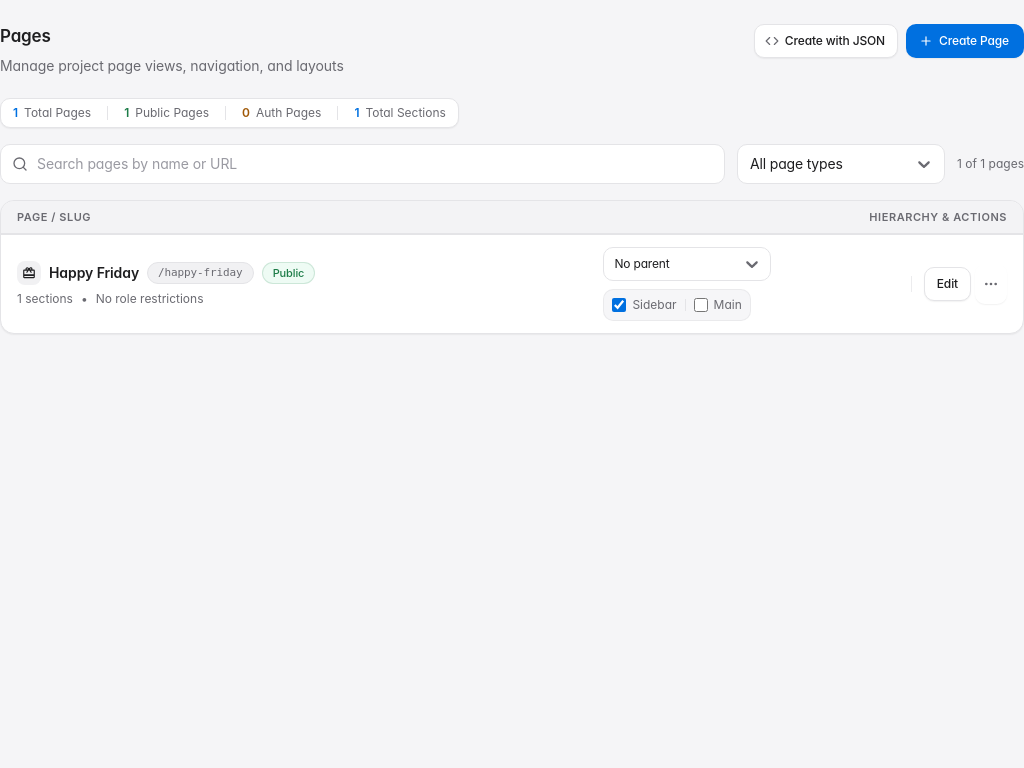
it: PagesSection designer workspace › retains changes after a save failure and supports keyboard tab navigation
Click the button "Edit" at coordinates (947, 284), box x1=924 y1=267 x2=971 y2=301
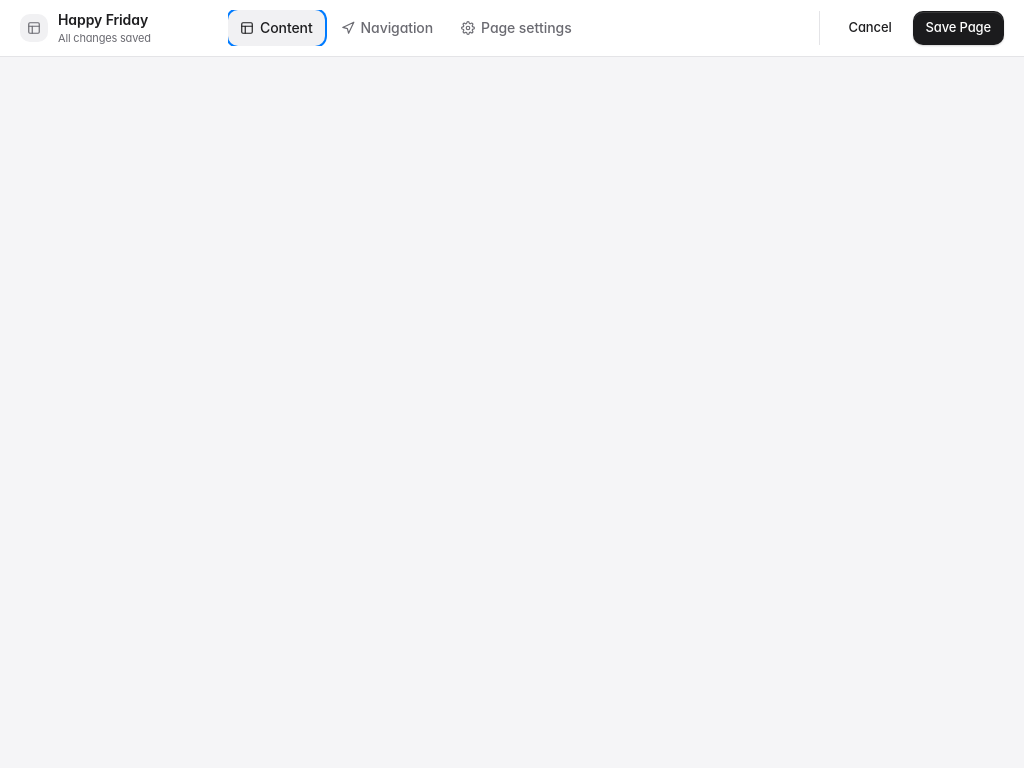
Press End
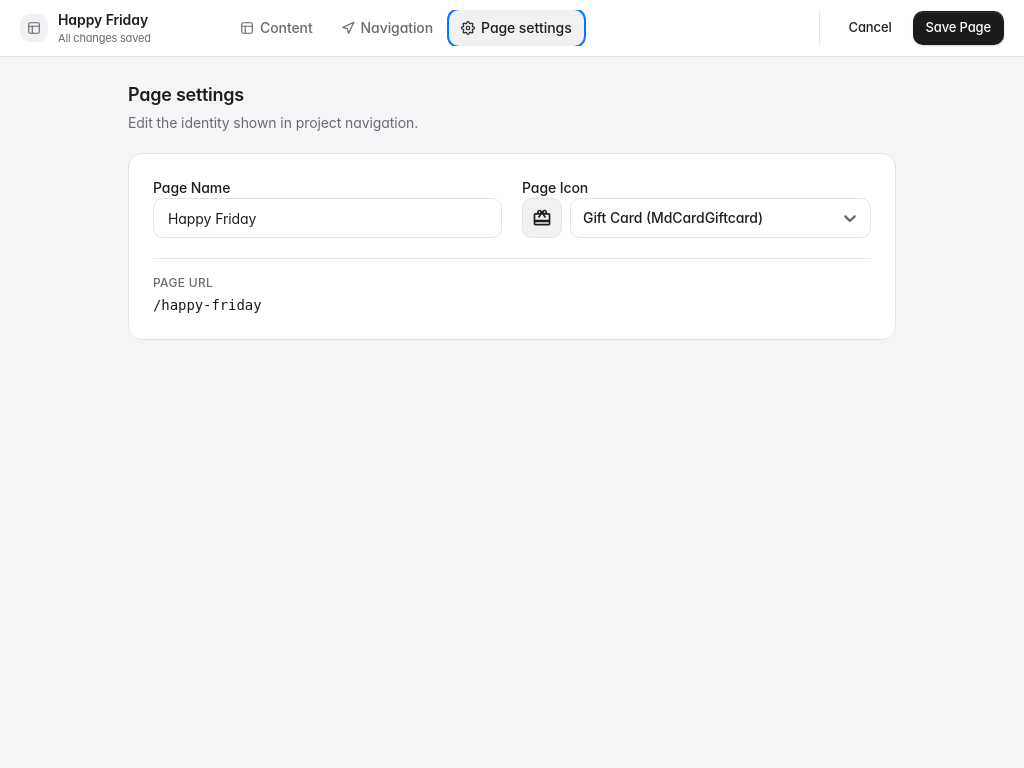
Expected: the tab "Page settings" is selected, x1=449 y1=10 x2=584 y2=46
Type " updated" into the field labelled "Page Name" at coordinates (328, 218), box x1=153 y1=198 x2=502 y2=238
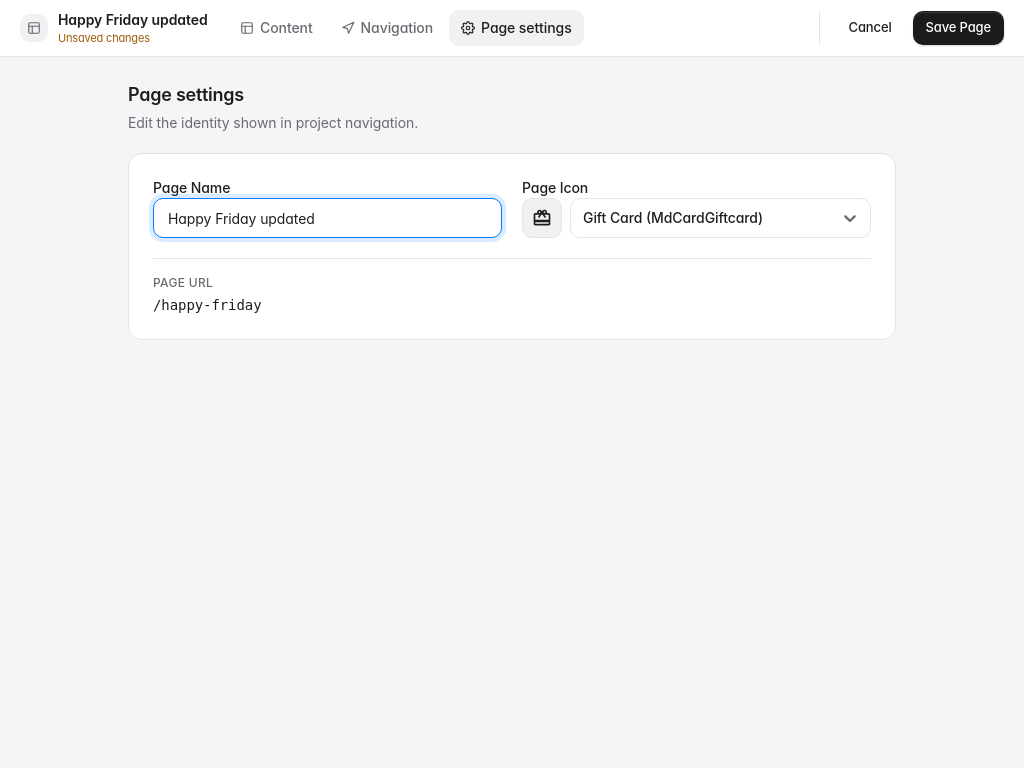
Click the button "Save Page" at coordinates (958, 28), box x1=912 y1=11 x2=1004 y2=45
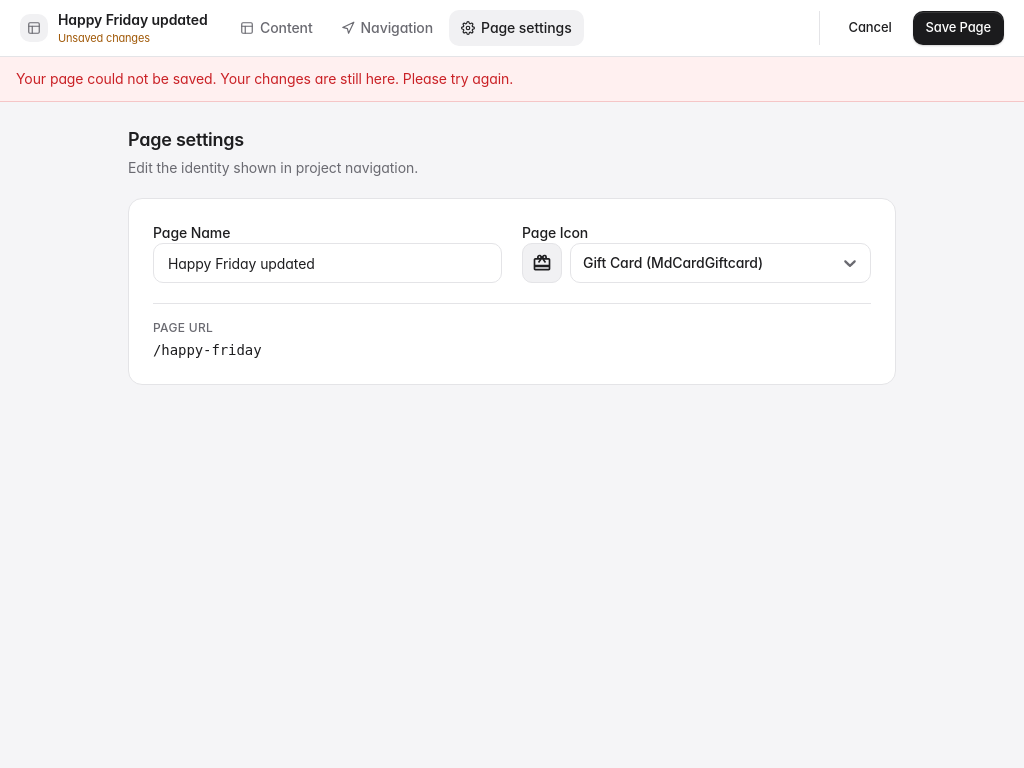
Expected: the field labelled "Page Name" holds "Happy Friday updated", x1=153 y1=243 x2=502 y2=283
Expected: the text "Unsaved changes" is shown, x1=58 y1=31 x2=150 y2=45
Expected: the message "Your page could not be saved. Your changes are still here. Please try again." is shown, x1=0 y1=57 x2=1023 y2=102
